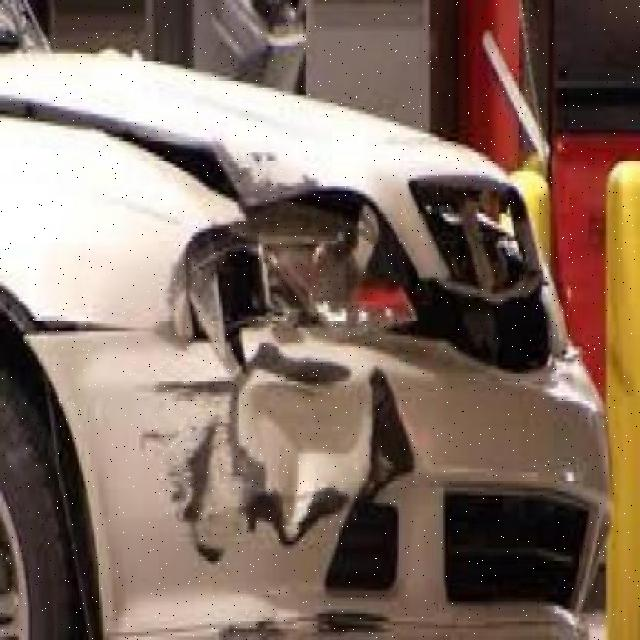damage: (4, 96, 556, 640)
